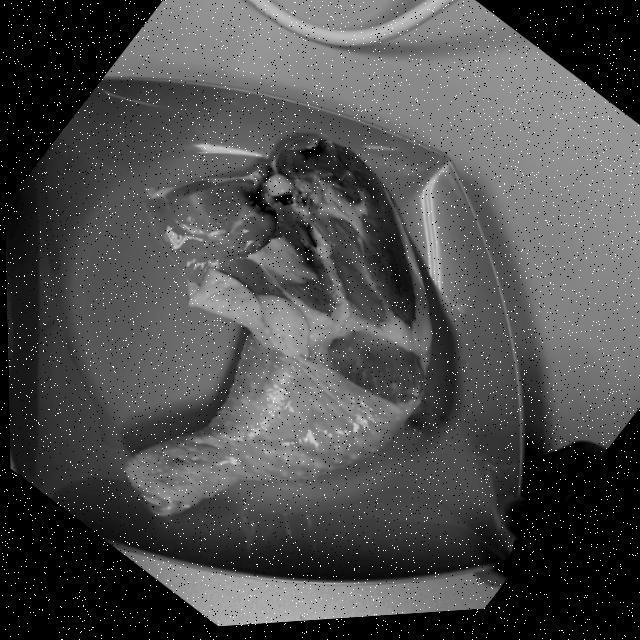quater: (126, 156, 432, 530)
